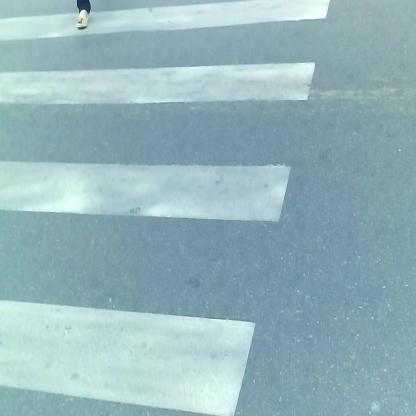crosswalk: (9, 4, 333, 416)
